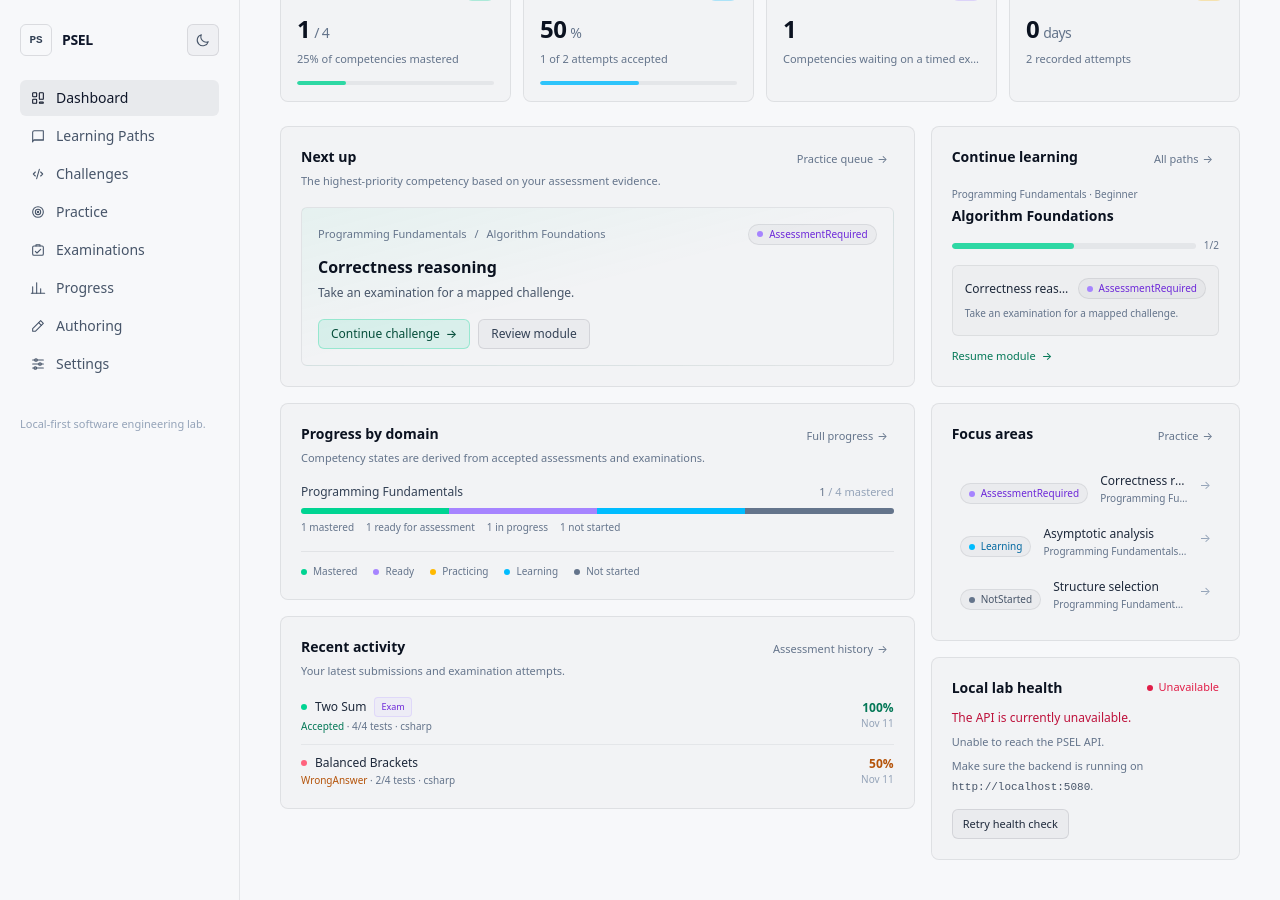
Test: DashboardPage › shows an error state and can retry the health check
The width and height of the screenshot is (1280, 900).
(page scrolled)
expect the text "The API is currently unavailable." is shown: met, box [952,708,1131,726]
expect the text "Unable to reach the PSEL API." is shown: met, box [952,734,1104,748]
Click the button "Retry health check".
click(1010, 824)  # box [952,808,1069,839]
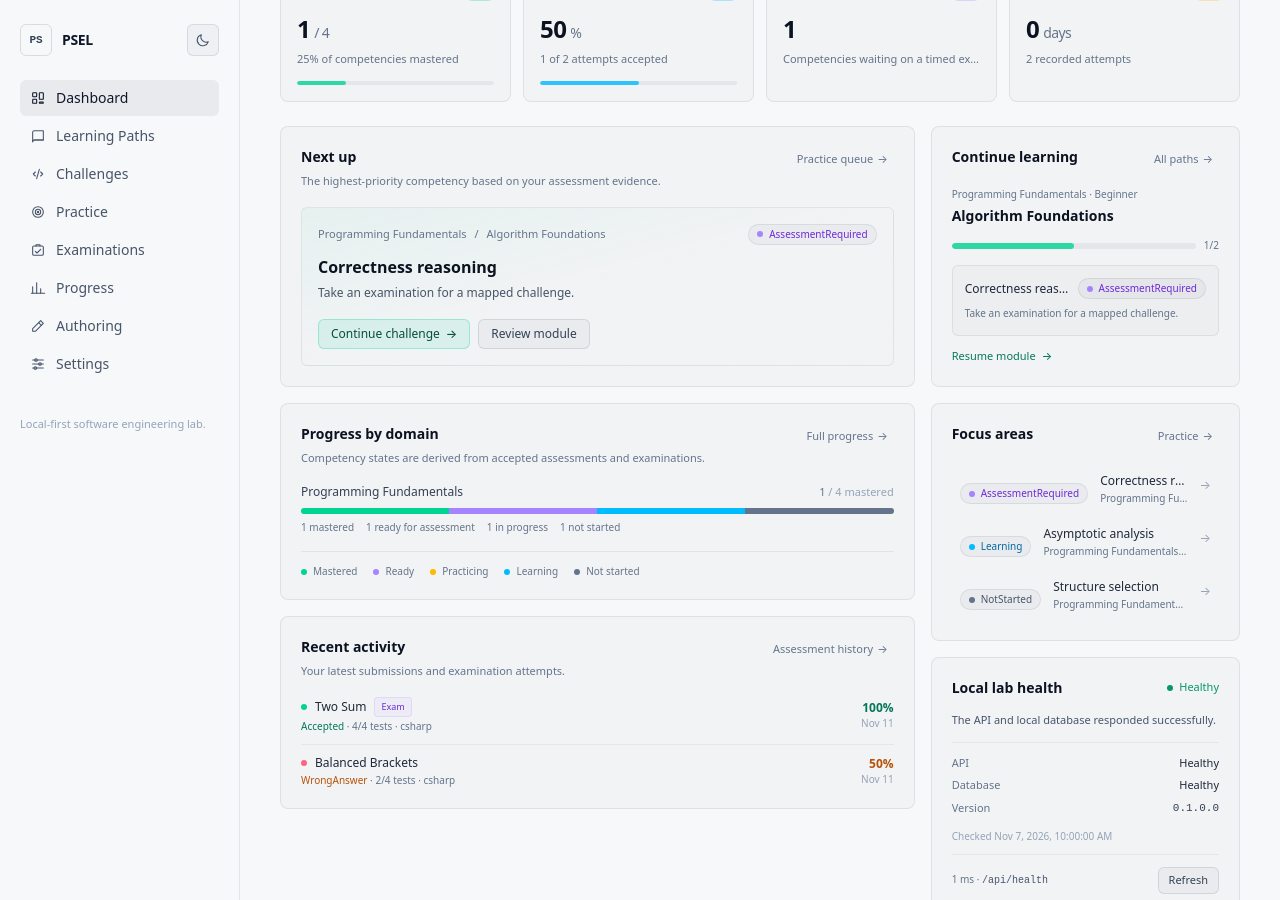
expect the text "The API and local database responded successfully." is shown: met, box [952,710,1219,730]
